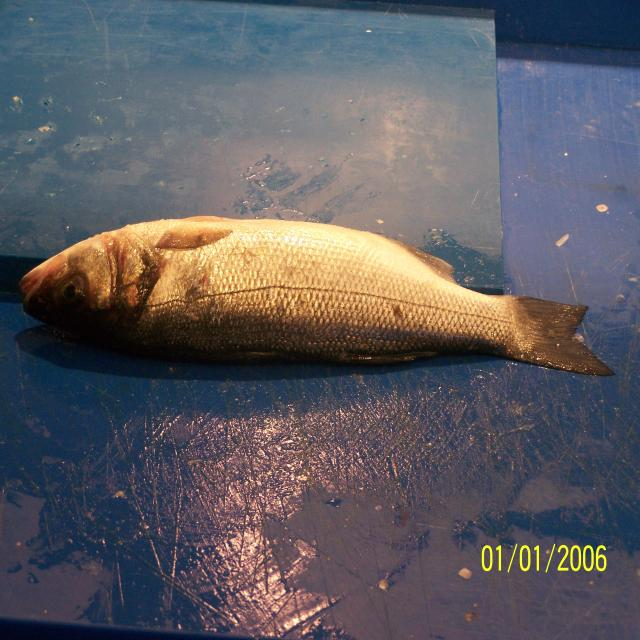Sea-Bass-levrek-: (16, 217, 614, 380)
